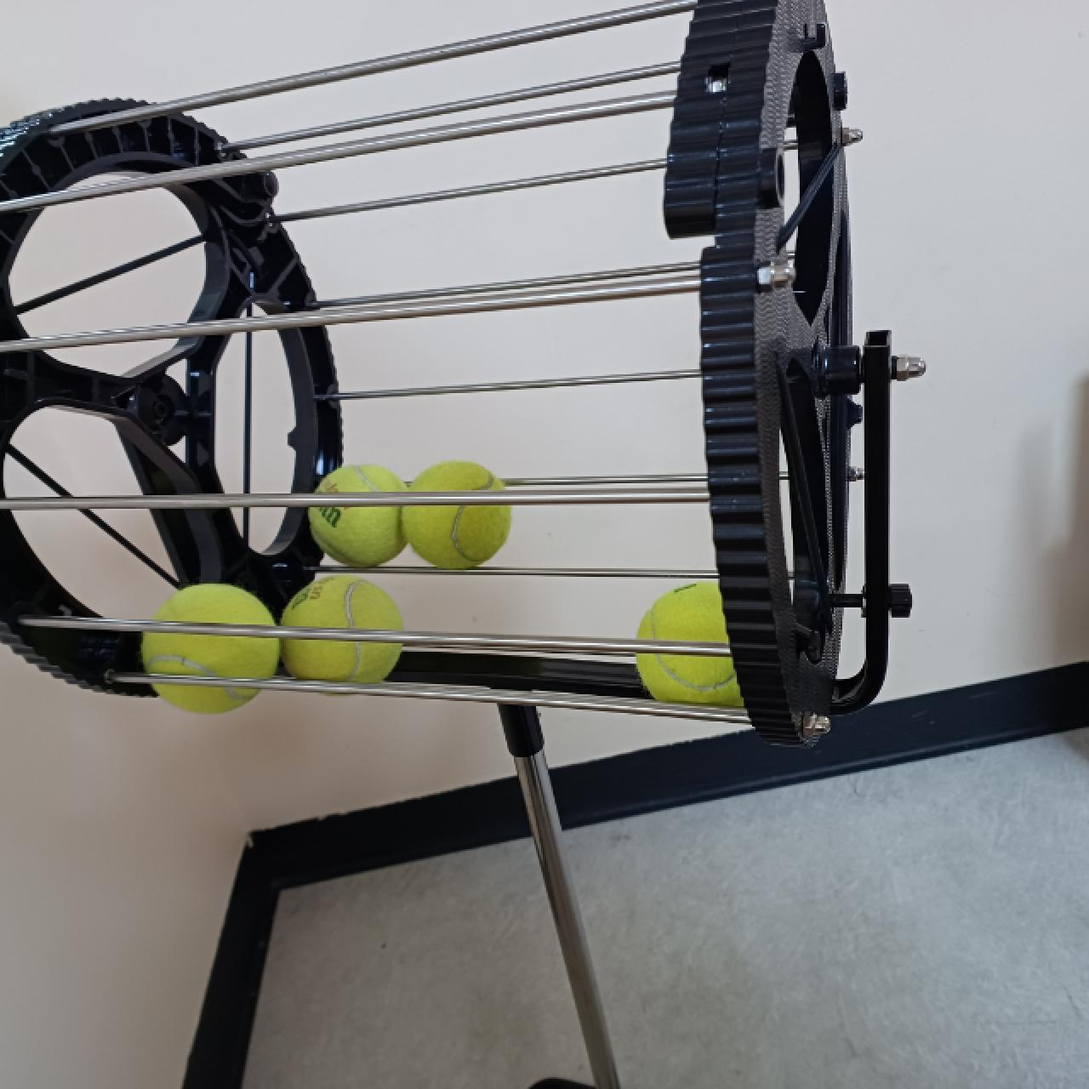tennis-ball: (139, 582, 281, 715), (632, 581, 764, 713), (280, 576, 406, 696), (400, 461, 511, 569), (307, 463, 413, 570)
